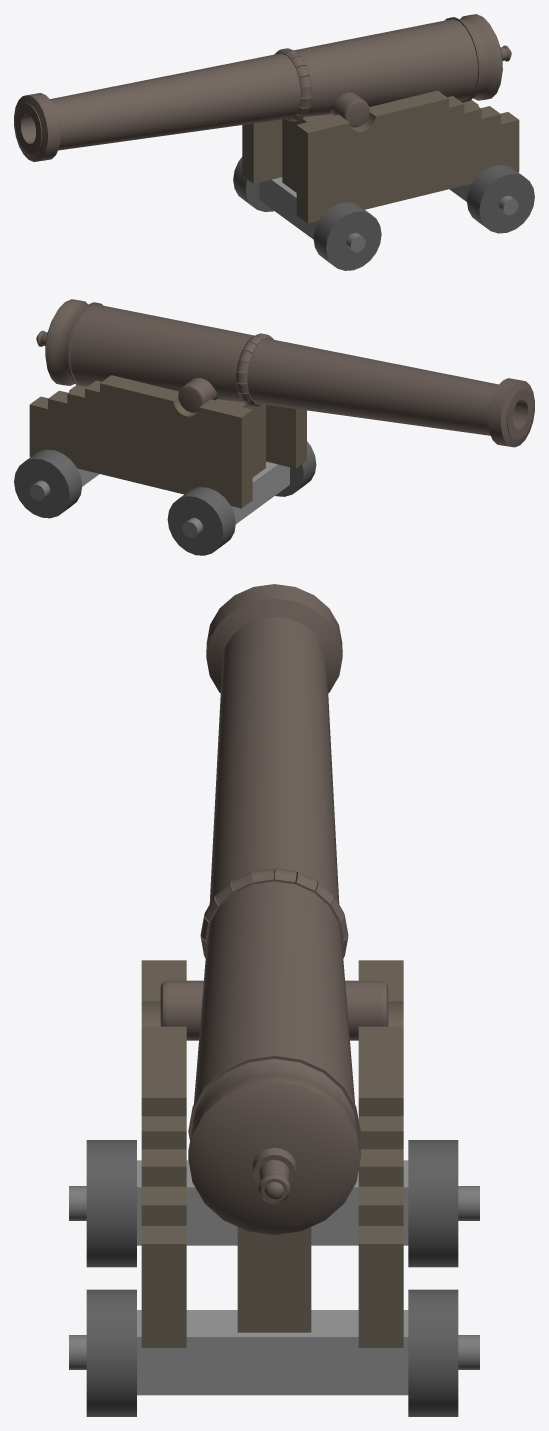
The model's file is Cannon.fbx.
The picture shows the model from 3 angles, top to bottom: view 1: azimuth 30°, elevation 25°; view 2: azimuth 150°, elevation 25°; view 3: azimuth 270°, elevation 25°; orthographic projection. The views are drawn at different scales.
Parts seen in each view (by area): view 1: pCylinder1, pCube2, pCylinder4, pCylinder7, pCube3, pCube4, pCube6, pCylinder2, pCylinder5; view 2: pCylinder1, pCube3, pCylinder5, pCylinder6, pCube2, pCube4, pCube6, pCylinder2, pCylinder4, pCylinder9, pCylinder8; view 3: pCylinder1, pCube5, pCube2, pCube3, pCube7, pCylinder4, pCylinder5, pCylinder6, pCylinder7, pCube4, pCylinder2, pCylinder8 (+1 smaller).
Part boxes in pixels (box(x1,y1,x2,y2)): pCylinder1: box(14, 14, 511, 161); pCube2: box(296, 90, 519, 223); pCylinder4: box(313, 202, 381, 270); pCylinder7: box(467, 165, 534, 233); pCube3: box(242, 119, 282, 183); pCube4: box(259, 177, 318, 239); pCube6: box(282, 114, 333, 192); pCylinder2: box(330, 92, 369, 127); pCylinder5: box(233, 157, 273, 211); pCylinder1: box(36, 299, 534, 447); pCube3: box(29, 375, 252, 508); pCylinder5: box(167, 487, 235, 555); pCylinder6: box(14, 449, 82, 518); pCube2: box(266, 405, 306, 468); pCube4: box(231, 461, 289, 523); pCube6: box(215, 399, 265, 477); pCylinder2: box(178, 378, 217, 412); pCylinder4: box(275, 441, 316, 496); pCylinder9: box(29, 480, 50, 500); pCylinder8: box(182, 518, 202, 538); pCylinder1: box(188, 584, 360, 1234); pCube5: box(137, 1310, 408, 1395); pCube2: box(141, 960, 186, 1347); pCube3: box(358, 960, 403, 1347); pCube7: box(237, 1227, 311, 1332); pCylinder4: box(86, 1140, 136, 1267); pCylinder5: box(408, 1140, 458, 1267); pCylinder6: box(408, 1289, 458, 1416); pCylinder7: box(86, 1289, 136, 1416); pCube4: box(137, 1160, 408, 1245); pCylinder2: box(160, 980, 388, 1040); pCylinder8: box(69, 1186, 479, 1220).
Bounding box in the file's own units: 17.4 × 7.06 × 6.41.
